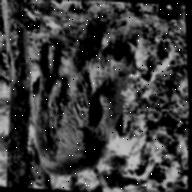boar: (22, 22, 143, 182)
